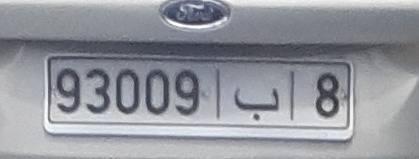0: (112, 67, 142, 118), (143, 67, 171, 118)
3: (83, 66, 112, 115)
8: (311, 68, 341, 121)
9: (173, 65, 202, 118), (54, 65, 82, 115)
b: (229, 84, 283, 123)
